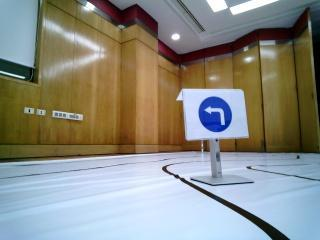left: (189, 94, 245, 133)
